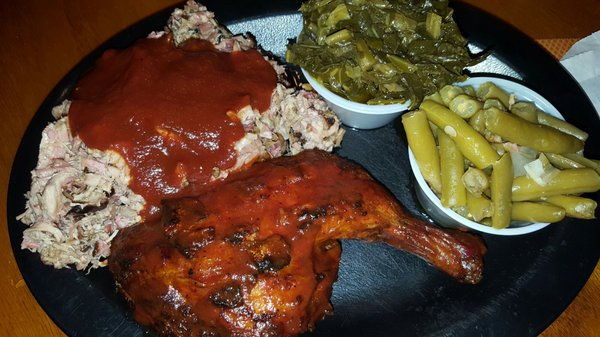sushi: (402, 78, 599, 238), (285, 1, 471, 130)
